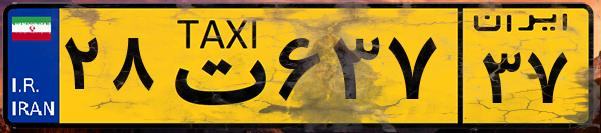2: (57, 26, 110, 100)
3: (330, 28, 385, 110), (475, 38, 525, 113)
6: (270, 28, 330, 110)
7: (385, 28, 445, 110), (525, 38, 570, 115)
8: (110, 28, 158, 98)
ت: (158, 12, 270, 120)
